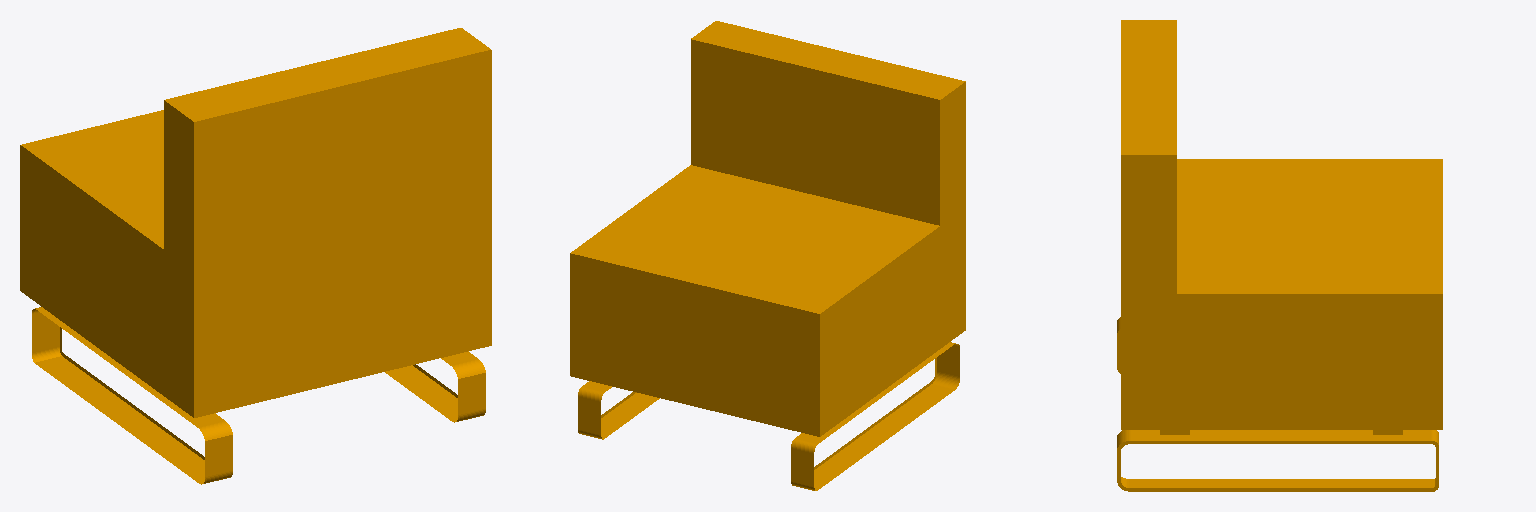
URDF robot description (892529626a1710cf17ef8b7bd64bd7f2):
<?xml version="1.0" ?>
<robot name="892529626a1710cf17ef8b7bd64bd7f2">

  <link name="base">

    <inertial>
      <mass value="1"/>
      <inertia ixx="1" ixy="0" ixz="0" iyy="1" iyz="0" izz="1"/>
    </inertial>

    <visual>
      <origin rpy="1.57079 0 0" xyz="0 0 0.08"/>
      <geometry>
        <mesh filename ="models/model_normalized.obj" scale="1 1 1"/>
      </geometry>
    </visual>

    <collision>
      <origin rpy="1.57079 0 0" xyz="0 0 0.08"/>
      <geometry>
        <mesh filename ="models/model_normalized.obj" scale="1 1 1"/>
      </geometry>
    </collision>

  </link>
  
</robot>

--- Facts derived from the render (not from the file) ---
Views: 3 orthographic renders of the robot side by side, from view 1: azimuth 30°, elevation 25°; view 2: azimuth 150°, elevation 25°; view 3: azimuth 270°, elevation 25°.
Model 892529626a1710cf17ef8b7bd64bd7f2 with 1 links and 0 joints (none), rooted at base, posed every joint at zero.
Links seen in each view (by area): view 1: base; view 2: base; view 3: base.
Link boxes in pixels (left/top/right/bottom): base: left=20, top=28, right=491, bottom=484; base: left=570, top=21, right=965, bottom=490; base: left=1117, top=20, right=1442, bottom=491.
Bounding box of the posed robot: 0.5393 × 0.5527 × 0.6353 m (x, y, z).
1 mesh visuals loaded from 1 distinct referenced files (1 OBJ).